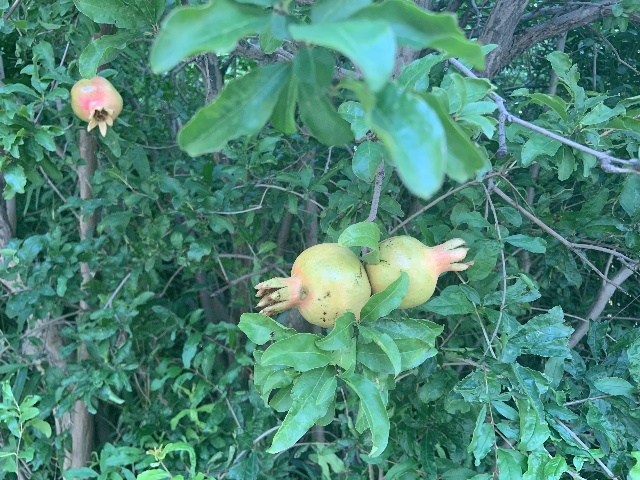mid-growth: (254, 242, 371, 327), (366, 234, 474, 309), (70, 75, 123, 137)
